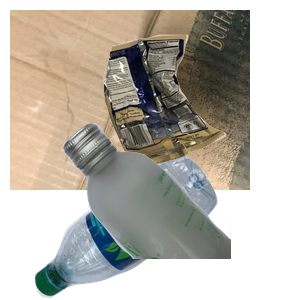cardboard: (10, 10, 250, 190)
glass: (60, 120, 300, 300)
plastic: (32, 154, 242, 300)
trash: (101, 32, 300, 195)
